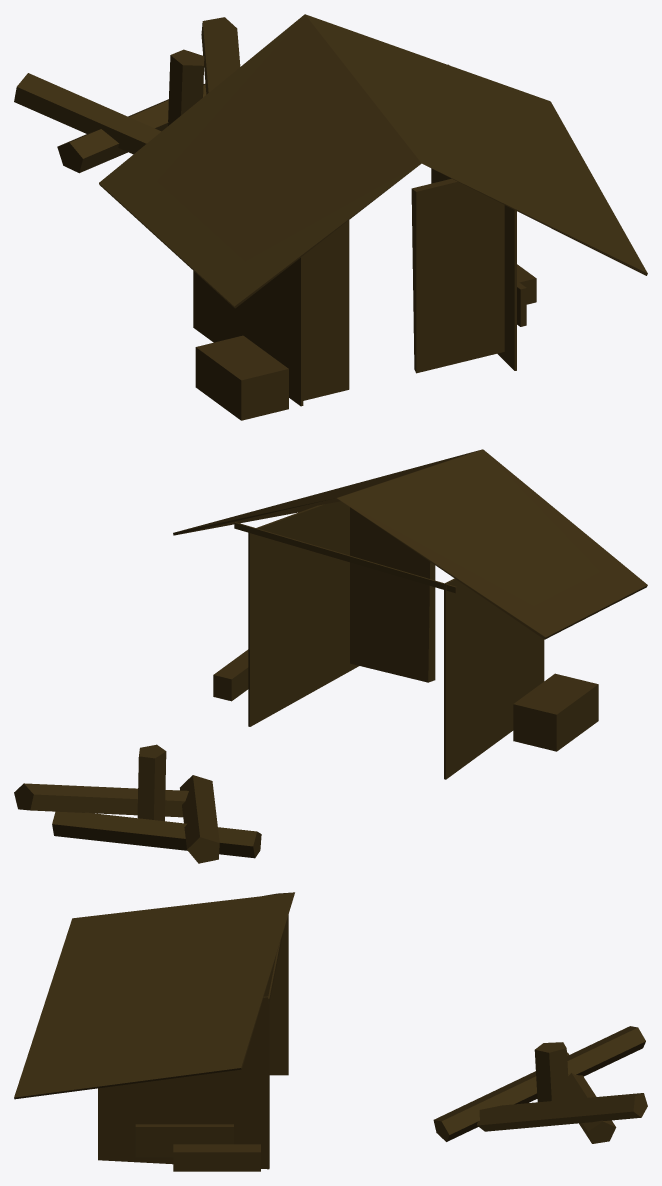
Rendered from camp.glb.
The picture shows the model from 3 angles, top to bottom: view 1: azimuth 30°, elevation 25°; view 2: azimuth 150°, elevation 25°; view 3: azimuth 270°, elevation 25°; orthographic projection. The views are drawn at different scales.
Parts seen in each view (by area): view 1: Cube.004, Cube.003, Cube.005, Cube, Cube.001, Cube.008, Cylinder.001, Cylinder, Cube.002, Cylinder.003, Cylinder.002; view 2: Cube.004, Cube.002, Cube, Cube.005, Cube.008, Cylinder, Cylinder.003, Cylinder.001, Cube.003, Cylinder.002, Cube.007, Cube.009; view 3: Cube.003, Cube.002, Cylinder.001, Cylinder.003, Cube.010, Cube, Cube.009, Cylinder.002, Cylinder.
Boxes of the visible parts, left/top/right/bottom form: Cube.004: left=99, top=14, right=421, bottom=308; Cube.003: left=305, top=14, right=647, bottom=275; Cube.005: left=411, top=178, right=504, bottom=373; Cube: left=193, top=256, right=303, bottom=406; Cube.001: left=303, top=220, right=349, bottom=400; Cube.008: left=195, top=335, right=288, bottom=420; Cylinder.001: left=14, top=73, right=161, bottom=154; Cylinder: left=57, top=84, right=206, bottom=173; Cube.002: left=431, top=168, right=516, bottom=370; Cylinder.003: left=201, top=17, right=240, bottom=94; Cylinder.002: left=168, top=49, right=204, bottom=125; Cube.004: left=337, top=449, right=647, bottom=639; Cube.002: left=248, top=501, right=358, bottom=726; Cube: left=444, top=578, right=544, bottom=779; Cube.005: left=350, top=507, right=435, bottom=682; Cube.008: left=513, top=673, right=598, bottom=751; Cylinder: left=52, top=811, right=261, bottom=858; Cylinder.003: left=14, top=783, right=188, bottom=817; Cylinder.001: left=180, top=775, right=219, bottom=863; Cube.003: left=173, top=450, right=479, bottom=535; Cylinder.002: left=137, top=744, right=166, bottom=821; Cube.007: left=234, top=522, right=456, bottom=593; Cube.009: left=213, top=649, right=248, bottom=701; Cube.003: left=14, top=892, right=294, bottom=1099; Cube.002: left=98, top=996, right=269, bottom=1169; Cylinder.001: left=433, top=1026, right=645, bottom=1141; Cylinder.003: left=477, top=1093, right=647, bottom=1131; Cube.010: left=135, top=1124, right=233, bottom=1157; Cube: left=264, top=915, right=288, bottom=1075; Cube.009: left=173, top=1144, right=260, bottom=1171; Cylinder.002: left=534, top=1042, right=569, bottom=1102; Cylinder: left=567, top=1052, right=616, bottom=1143.
Size of what is drawn, in the model's own units: 8.21 by 5.28 by 13.03.
